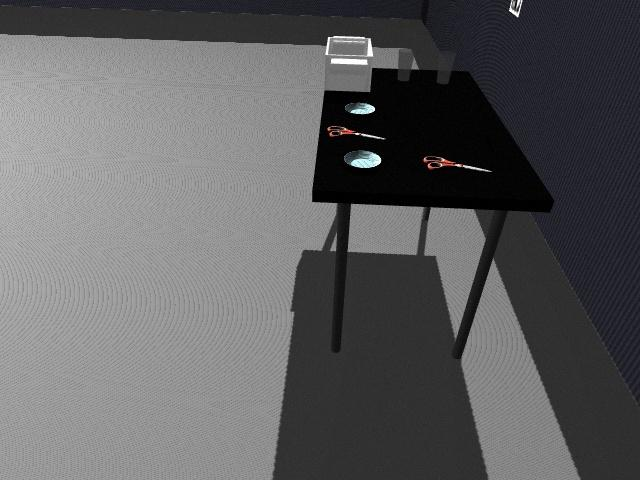cup: (434, 50, 456, 86), (397, 47, 414, 83)
plate: (343, 148, 383, 169), (345, 102, 377, 115)
scissors: (422, 154, 493, 173), (327, 125, 385, 140)
